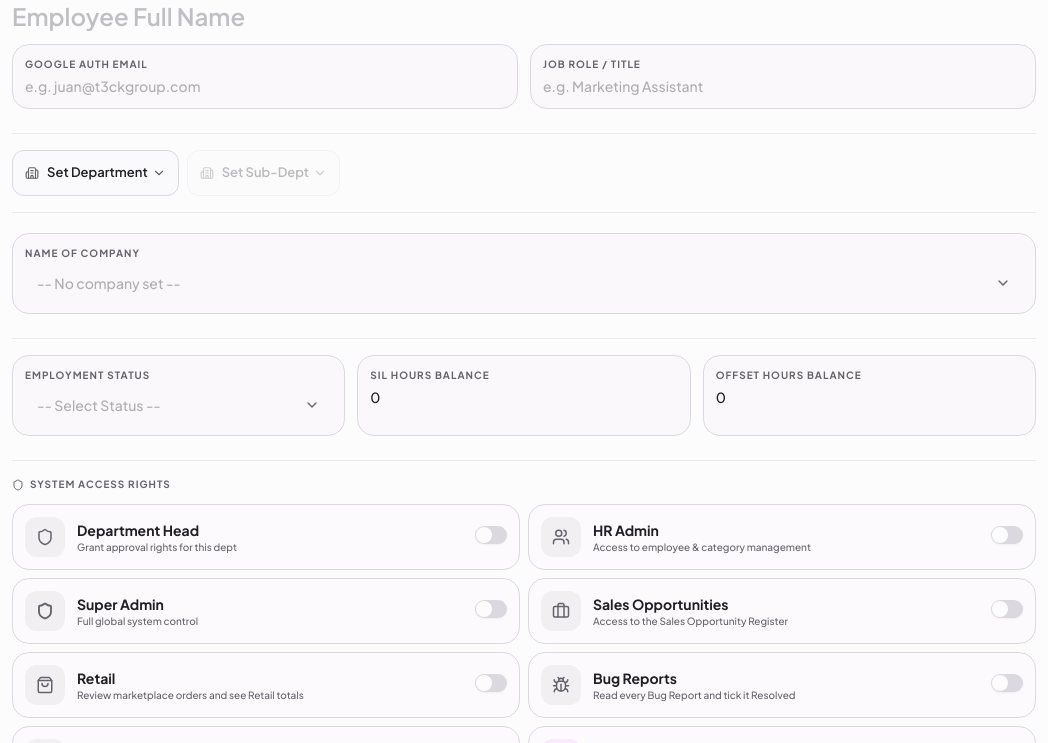
Test: EmployeeForm hidden-from-navigation editor › adds an entry to the offered list live when a toggle that permits it is turned on
Type "Test Employee" into the field with placeholder "Employee Full Name" at (524, 18), box [12,0,1036,36]
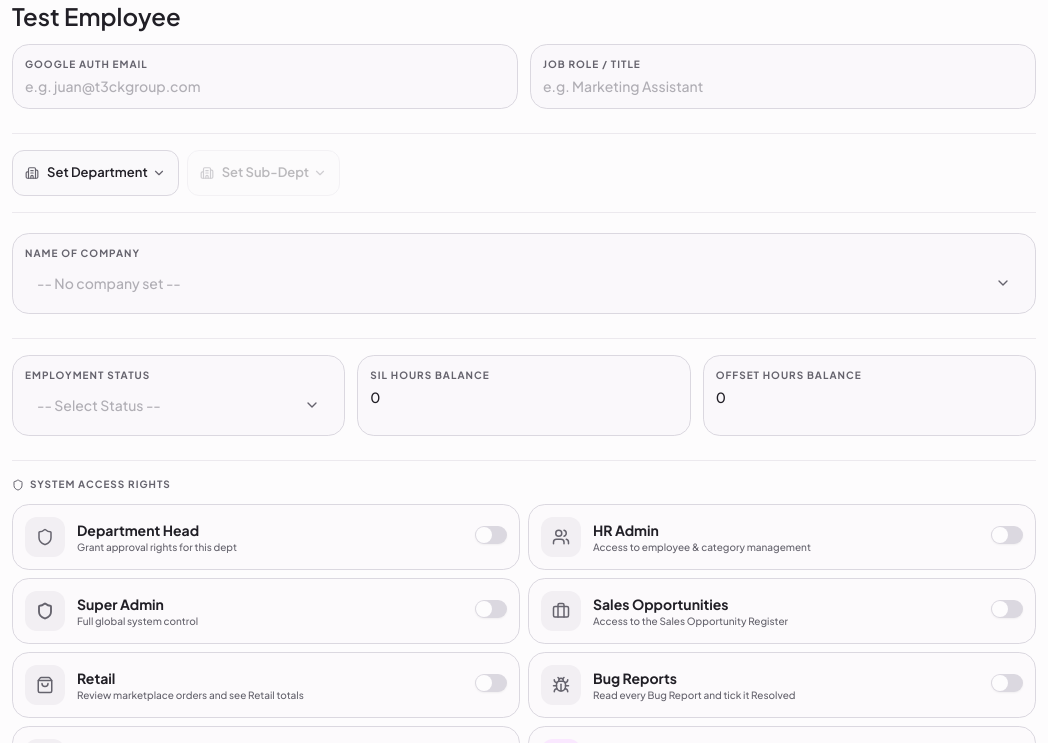
Type "test@t3ckgroup.test" into the field with placeholder "e.g. juan@t3ckgroup.com" at (265, 86), box [25,76,505,96]
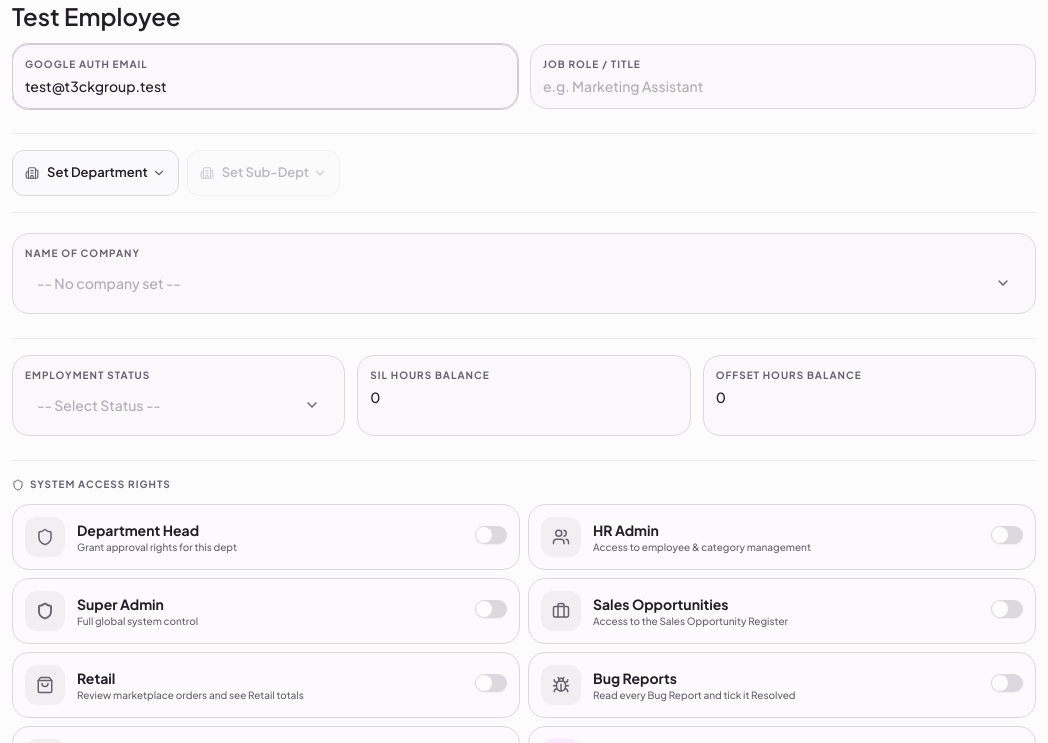
Expected: the text "SORS" is not shown
Click the text "Sales Opportunities" at (661, 604), box [593,594,729,612]
(page scrolled)
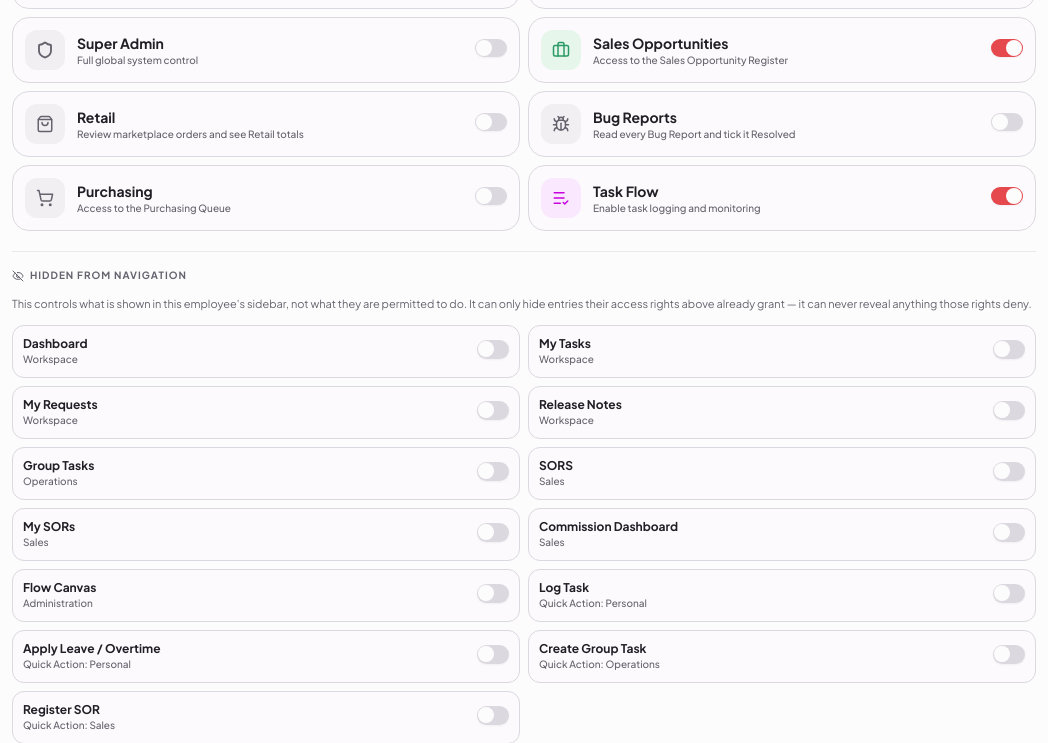
Expected: the text "SORS" is shown, [539,458,573,474]
